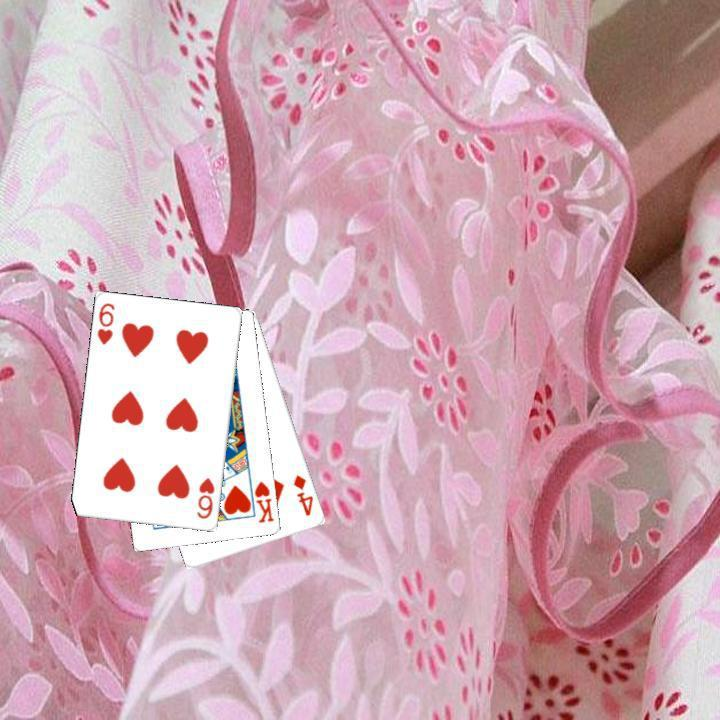4: (289, 471, 315, 518)
6: (93, 299, 117, 347), (193, 474, 217, 521)
K: (250, 477, 276, 525)
